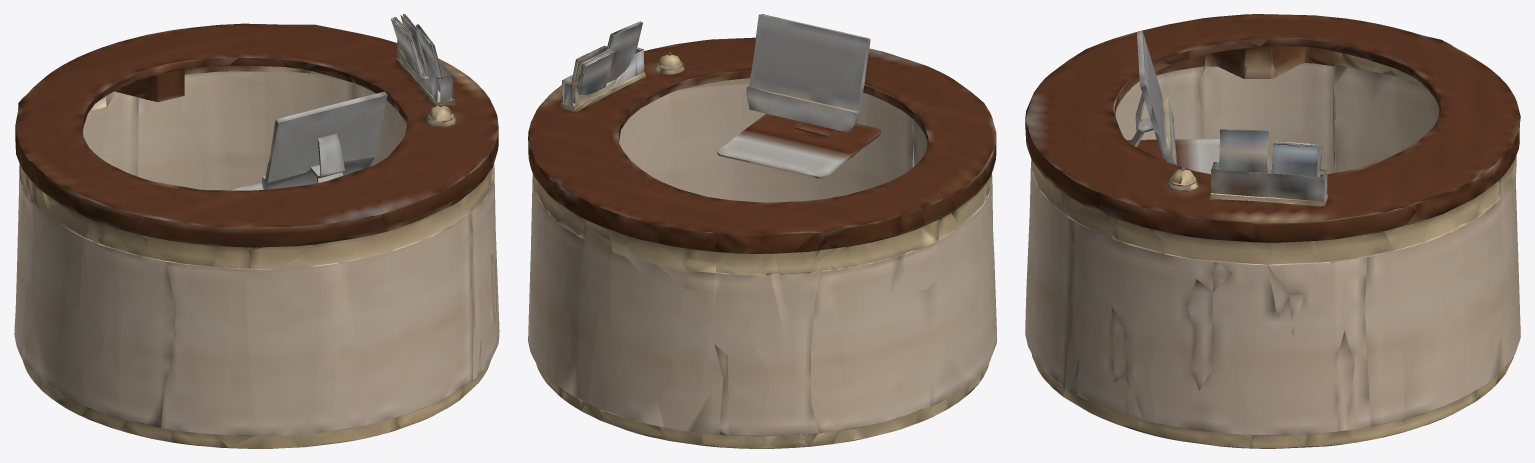
File: term_info.glb
3 views of the same model, side by side, from view 1: azimuth 30°, elevation 25°; view 2: azimuth 150°, elevation 25°; view 3: azimuth 270°, elevation 25° (orthographic). The views are drawn at different scales.
Parts seen in each view (by area): view 1: LO; view 2: LO; view 3: LO.
Boxes of the visible parts, bbox=[...] form: LO: bbox=[14, 14, 499, 448]; LO: bbox=[528, 14, 996, 448]; LO: bbox=[1025, 14, 1520, 448].
Size of the model in its own units: 2.09 by 1.37 by 2.09.
1 material, 1 textured.
